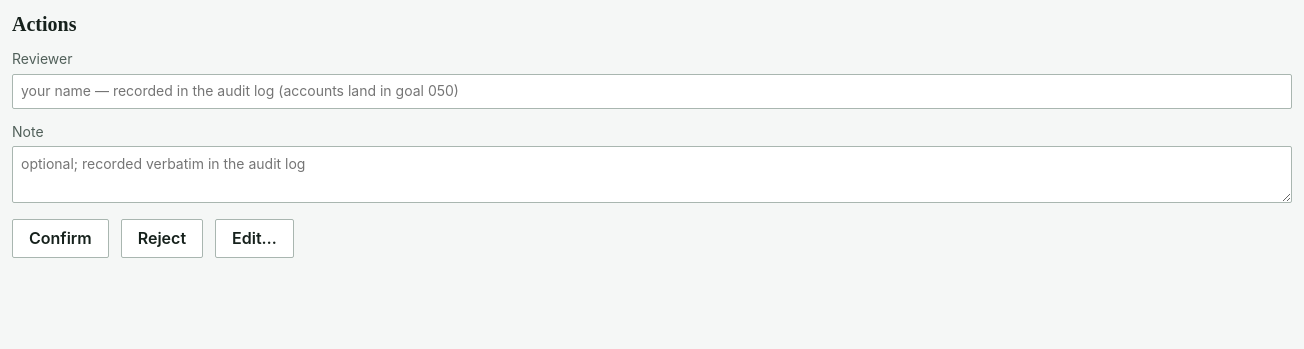
ResolvePanel validation › requires a reviewer name before any verdict reaches the endpoint
Click the button "Confirm".
click(60, 239)  # box [12,219,109,258]
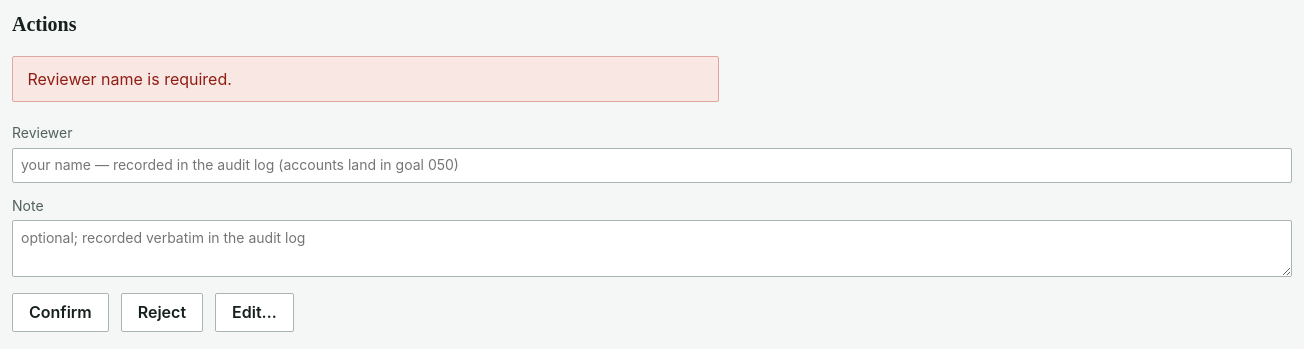
Now the message with test id "resolve-error" reads "Reviewer name is required.", box [27,69,232,89]
